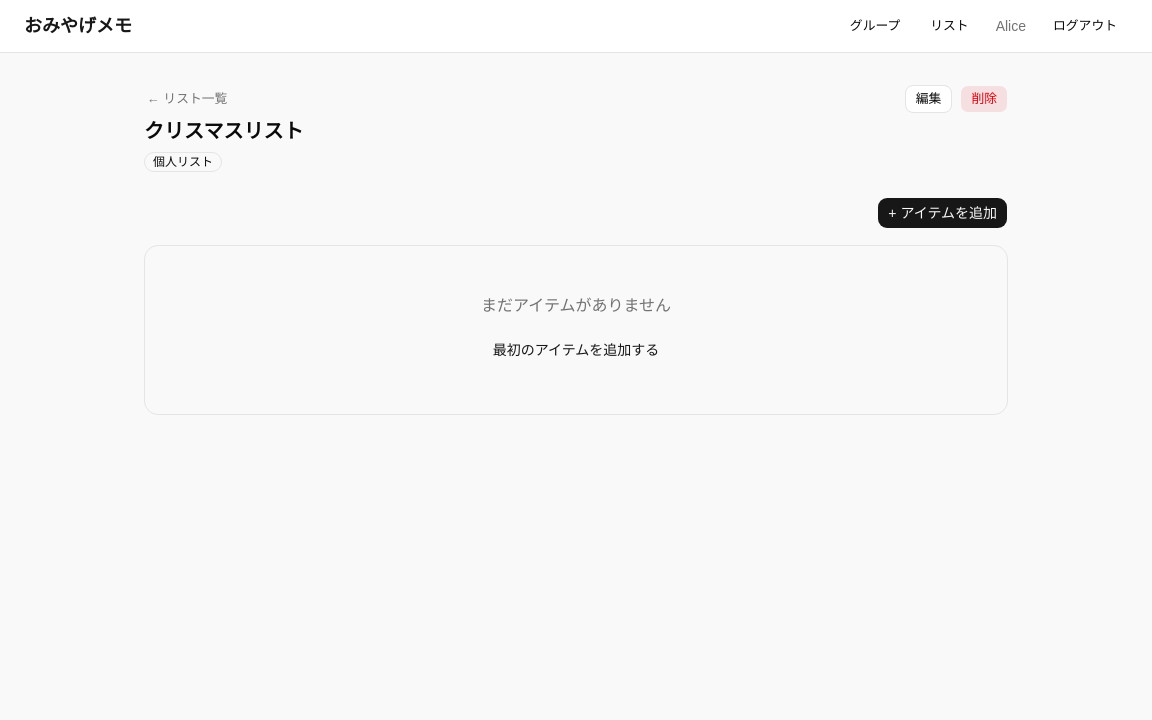
Test: GiftListDetailPage › アイテムを追加するとリストに追加される
The image size is (1152, 720).
Expected: the text "まだアイテムがありません" is shown, [481, 297, 671, 314]
Click the button "最初のアイテムを追加する".
click(576, 350)  # box [482, 334, 670, 366]
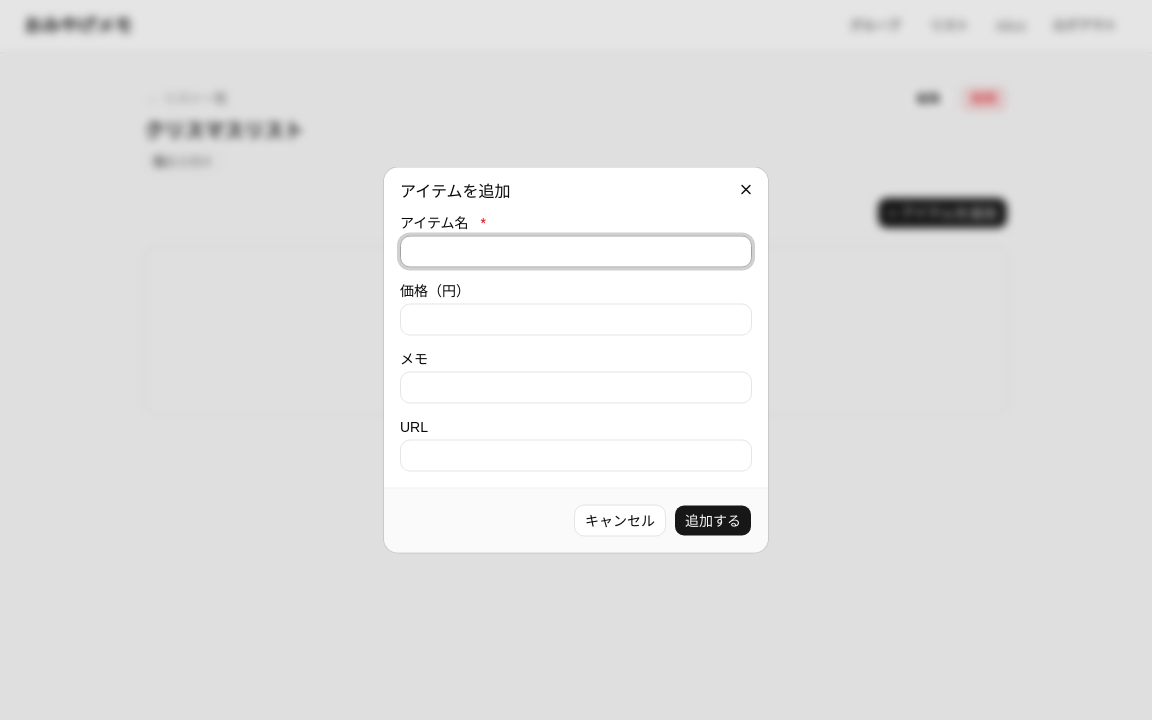
Type "本" into the field labelled "アイテム名 *".
click(576, 252); type("本")  # box [400, 236, 752, 268]
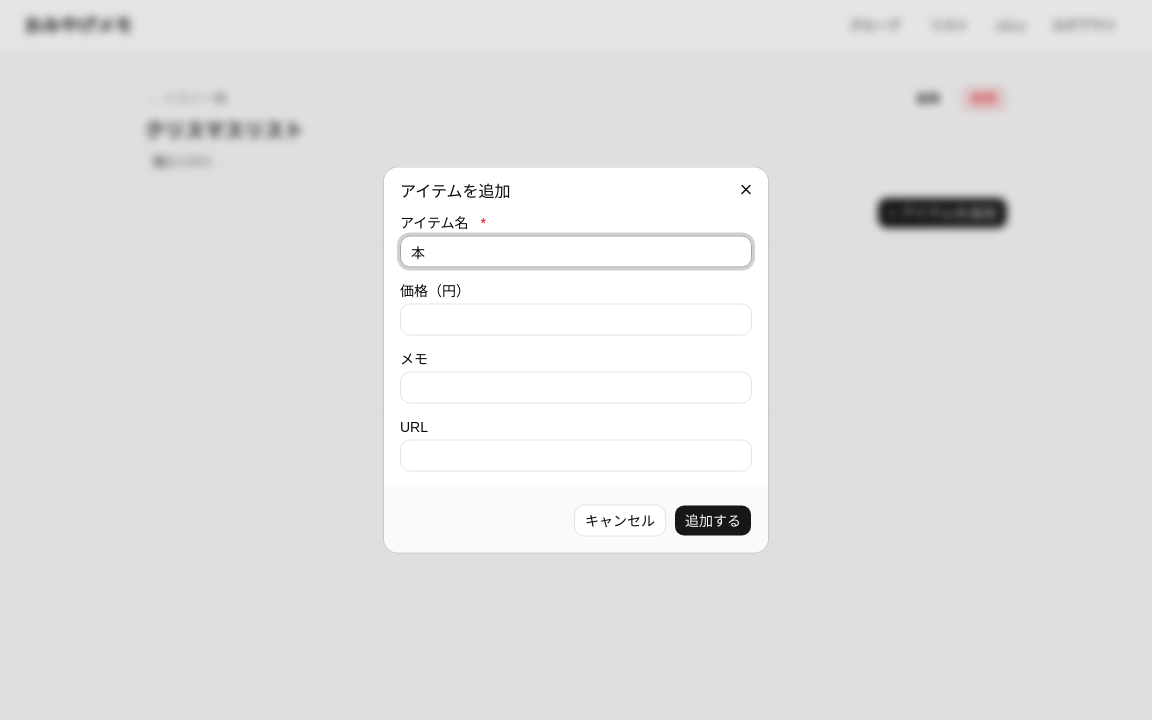
Click the button "追加する".
click(713, 520)  # box [674, 504, 752, 536]
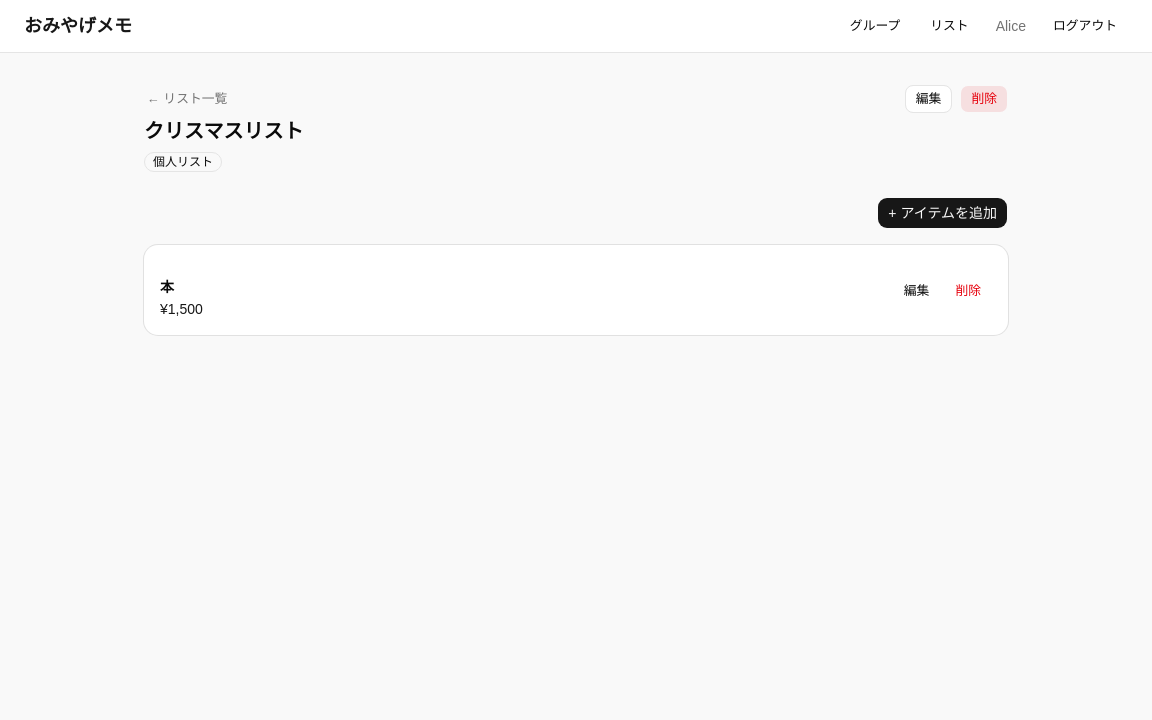
Expected: the text "本" is shown, [160, 279, 174, 295]
